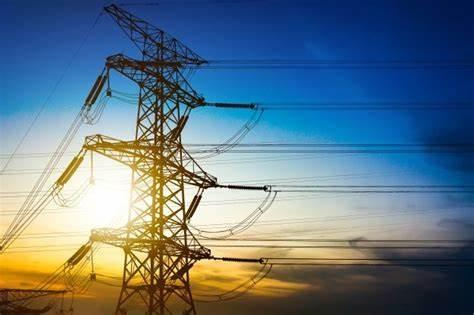power_tower: (53, 4, 264, 315)
